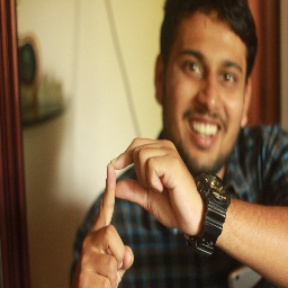P: (75, 134, 192, 286)
